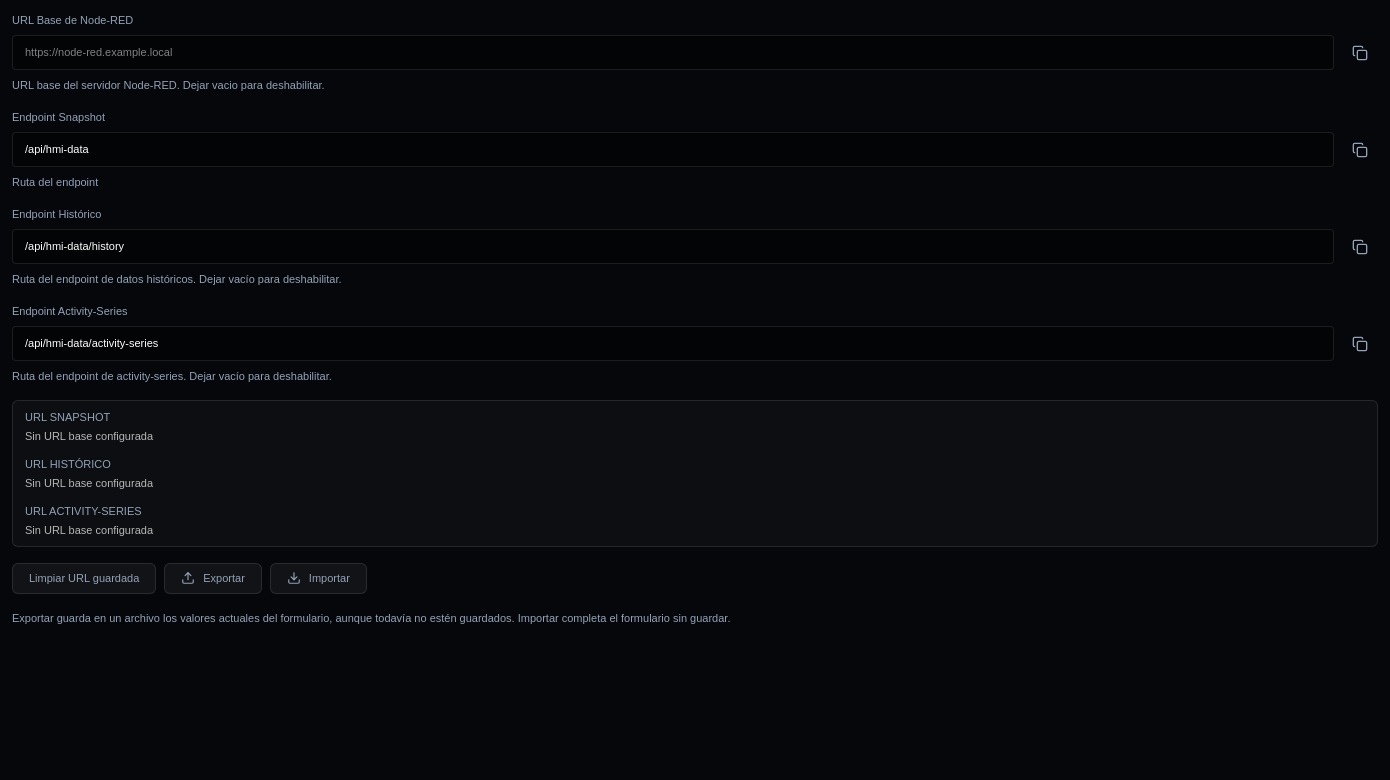
Test case: ConnectionSettingsTab copy buttons › copies the current unsaved value of Endpoint Histórico
Type "/api/custom/history" into the field named "Endpoint Histórico" at (673, 247), box [12,229,1334,264]
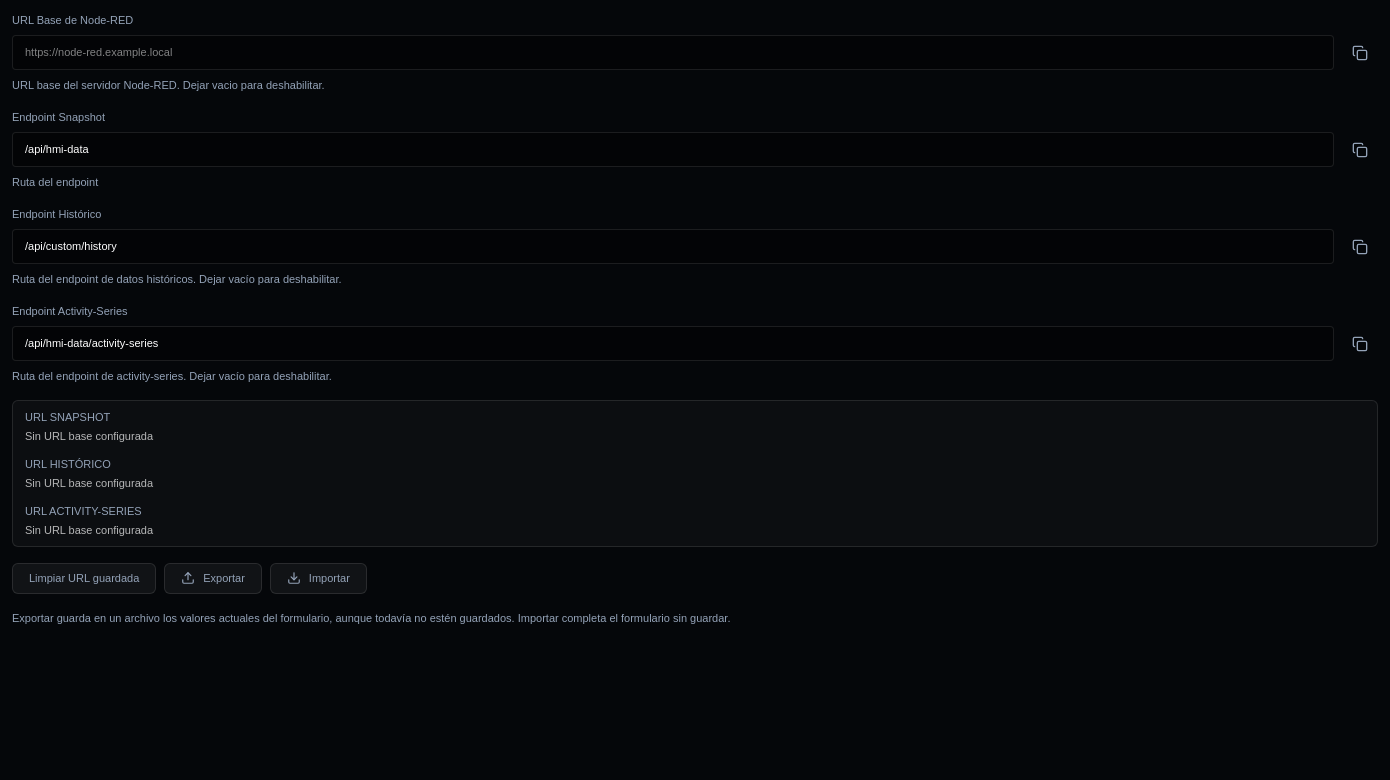
Click the button named "Copiar endpoint histórico" at (1360, 246), box [1342,228,1378,264]
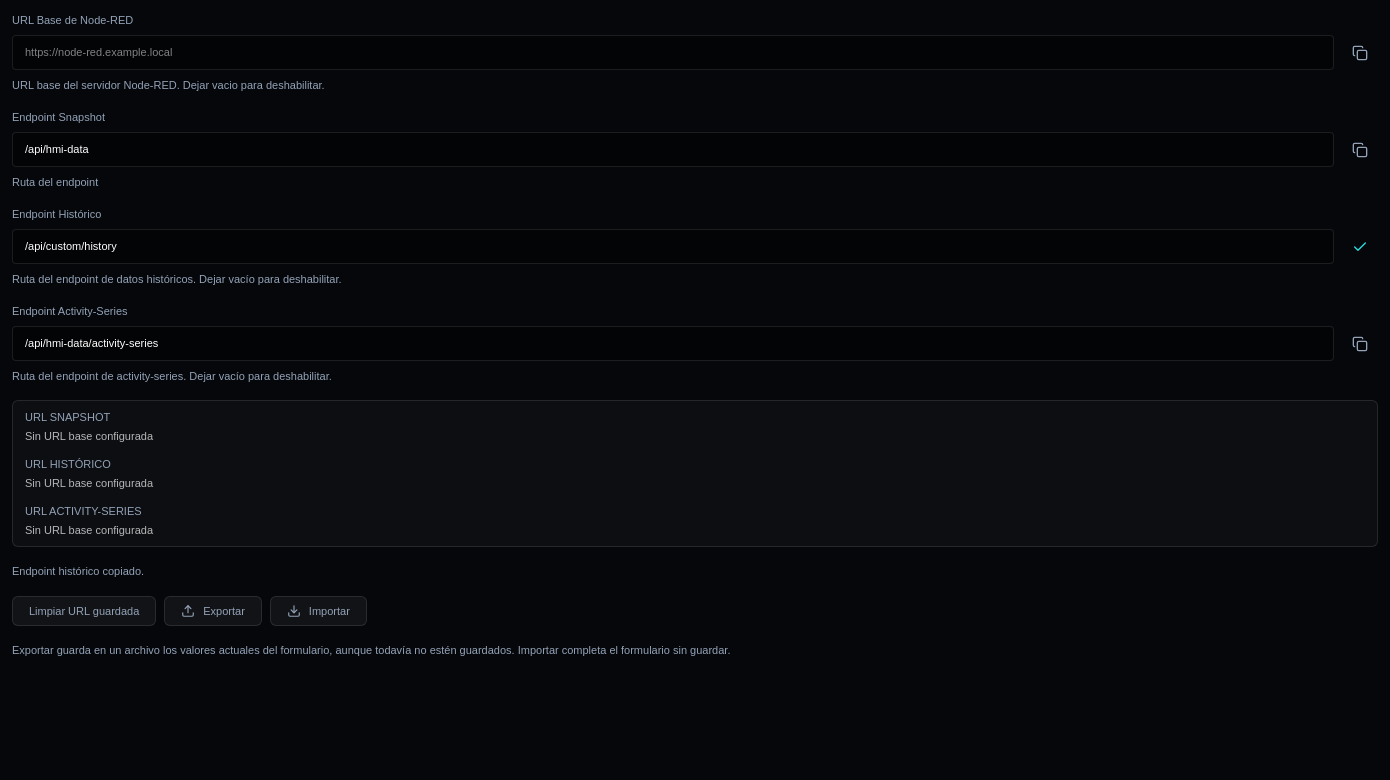
Expected: the message reads "Endpoint histórico copiado.", [12,565,144,577]
